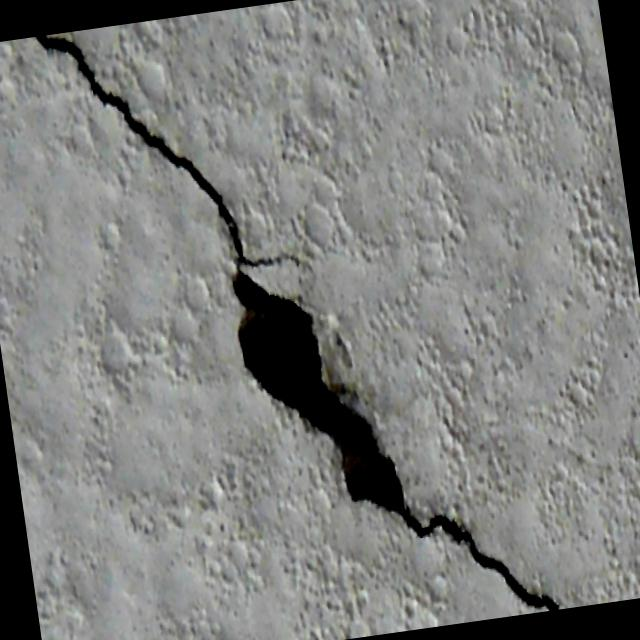crack: (33, 3, 315, 311), (406, 487, 562, 627)
spall: (224, 233, 410, 548)
